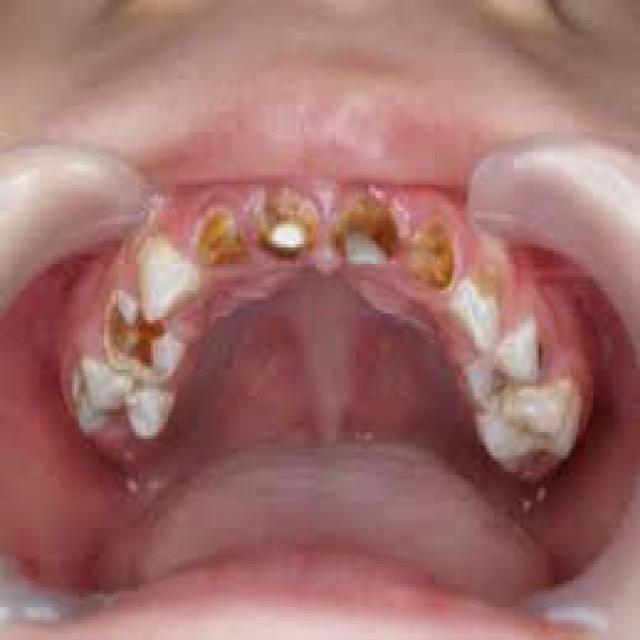caries: (97, 283, 175, 384), (334, 190, 407, 281), (254, 182, 326, 270), (186, 181, 247, 278), (411, 215, 463, 301)
